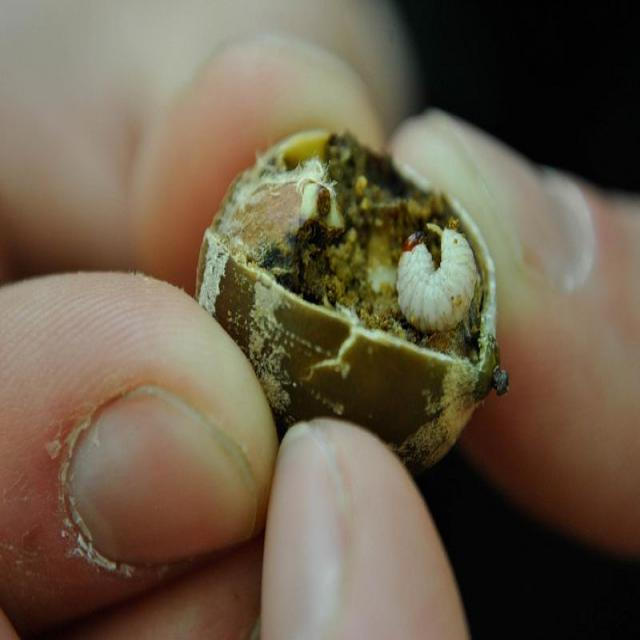Grub-Adult-: (396, 219, 478, 338)
